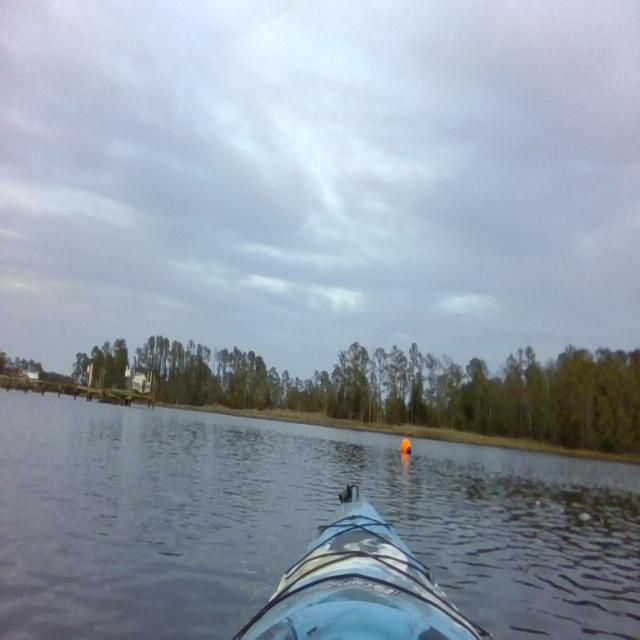Buoy: (400, 436, 412, 456)
